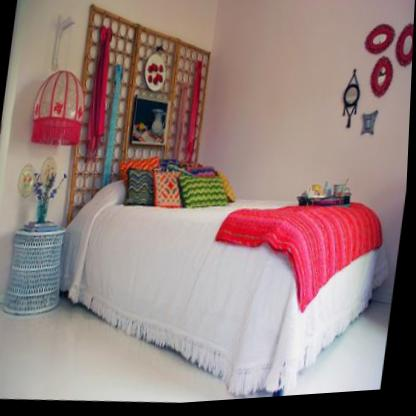Bed: (49, 137, 395, 398)
